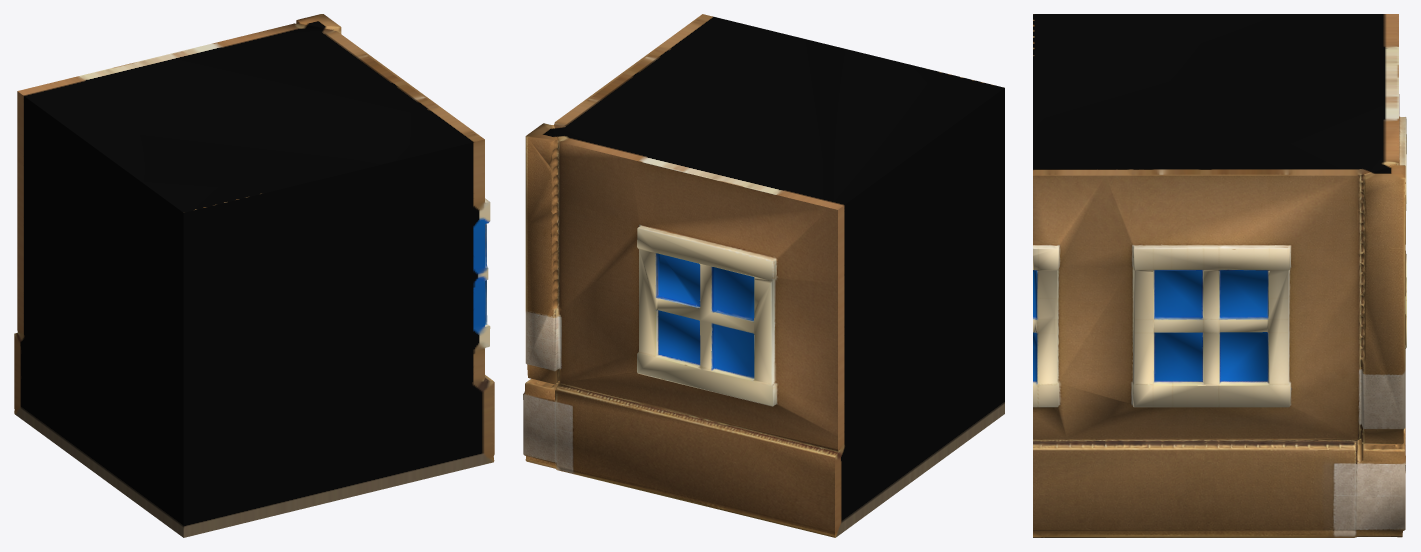
The model's file is 4-ground-floor-back-right.fbx.
3 views of the same model, side by side, from view 1: azimuth 30°, elevation 25°; view 2: azimuth 150°, elevation 25°; view 3: azimuth 270°, elevation 25° (orthographic). The views are drawn at different scales.
Visible parts, largest first — view 1: ground-floor-back-right; view 2: ground-floor-back-right; view 3: ground-floor-back-right.
Part boxes in pixels (x1,y1,x2,y2): ground-floor-back-right: [14, 14, 494, 537]; ground-floor-back-right: [523, 14, 1004, 537]; ground-floor-back-right: [1033, 14, 1406, 537].
Bounding box in the file's own units: 4770 × 4765 × 4515.
Materials: 1 (1 with a texture image).
